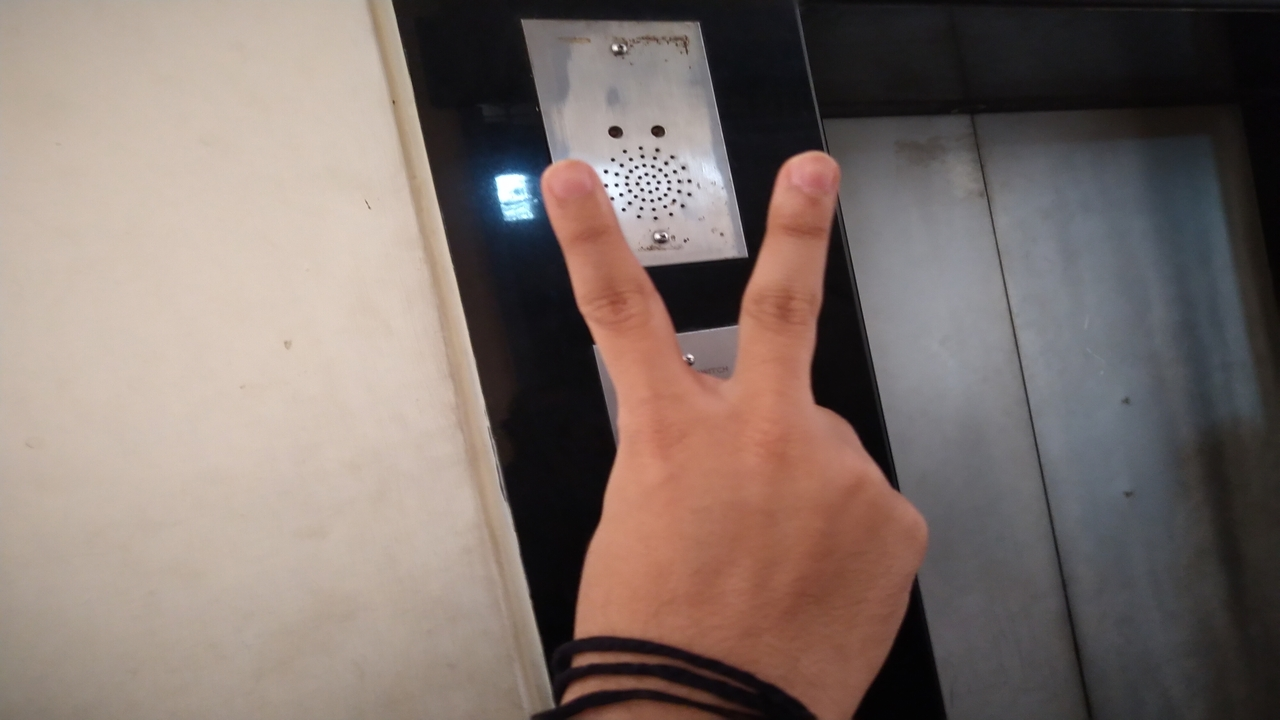fingertip: (768, 144, 846, 212), (538, 154, 604, 214)
